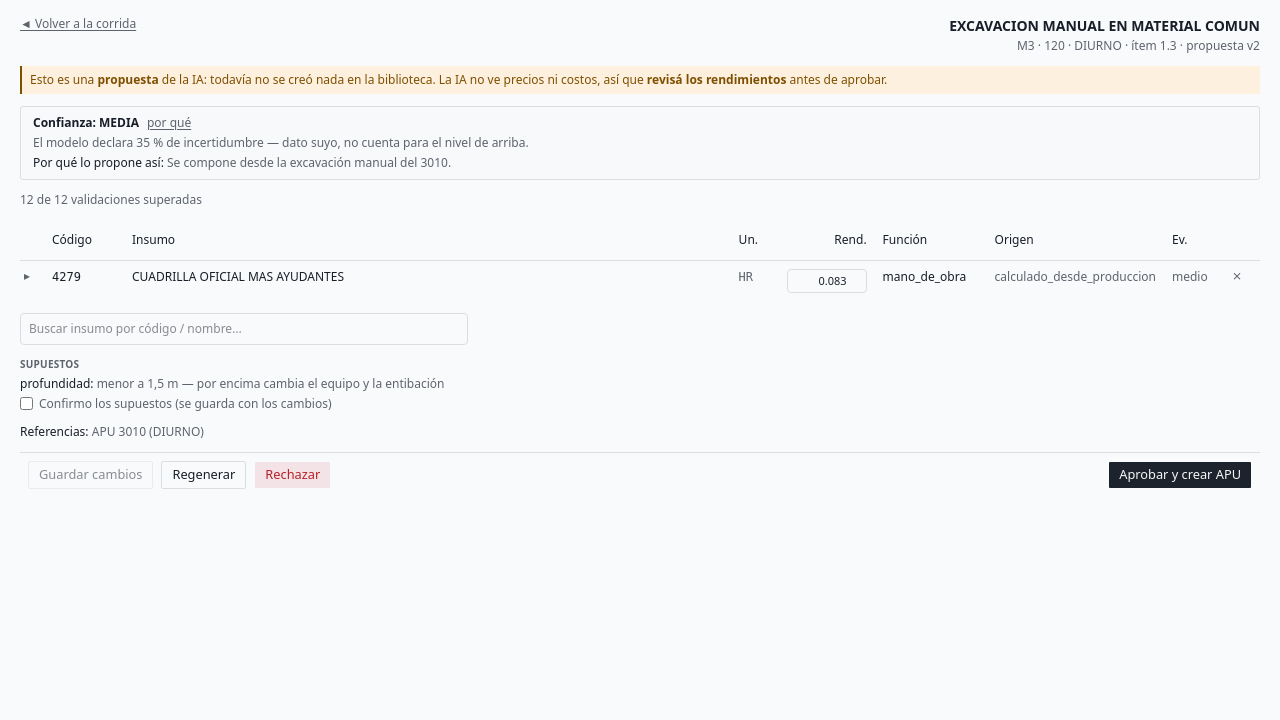
Test: pinta los componentes con su origen y su justificación
The image size is (1280, 720).
expect the text "4279" is shown: met, box [44,260,124,300]
expect the text "calculado_desde_produccion" is shown: met, box [987,260,1164,300]
La justificación va en el desplegable: en la fila manda el nombre del insumo.
Click the button named "Ver supuestos de 4279" at coordinates (27, 276), box [24,268,30,284]
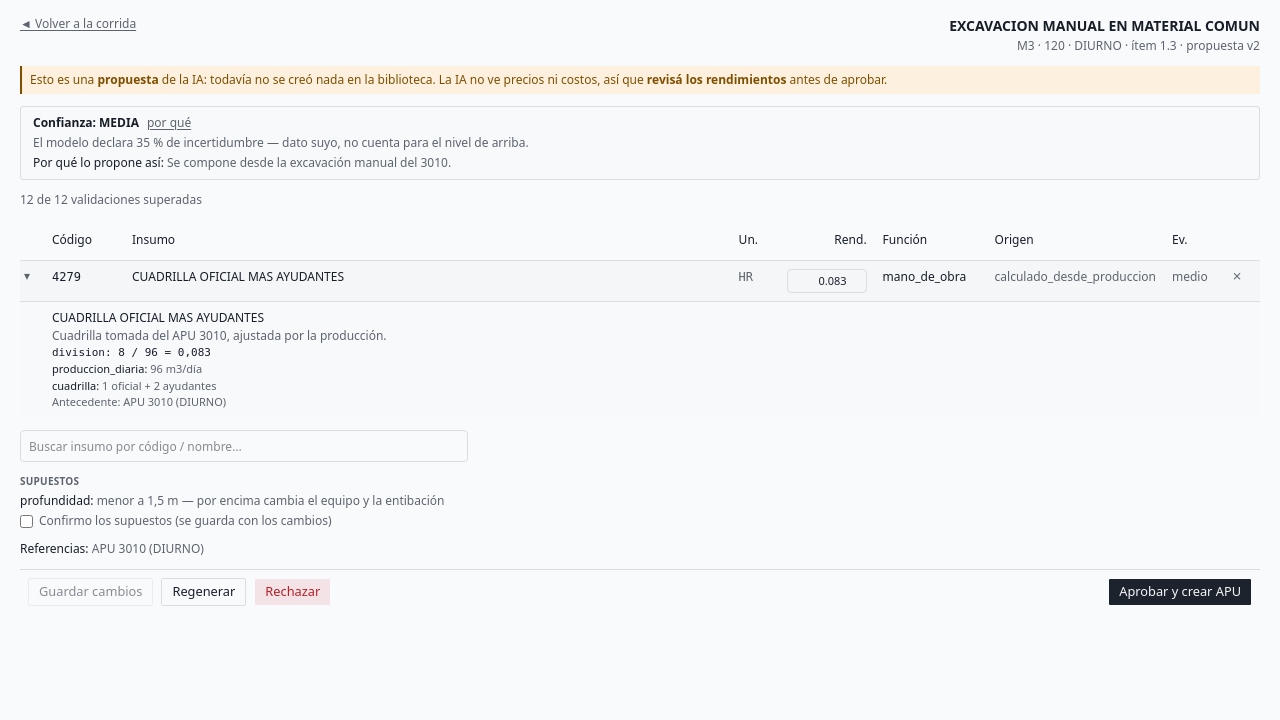
expect the text "Cuadrilla tomada del APU 3010, ajustada por la producción." is shown: met, box [52,326,387,344]
